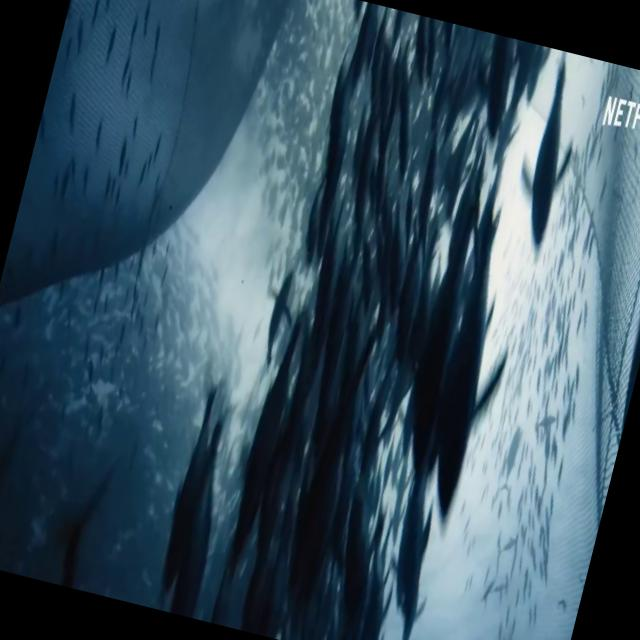fish: (404, 215, 532, 527), (502, 49, 596, 250)
